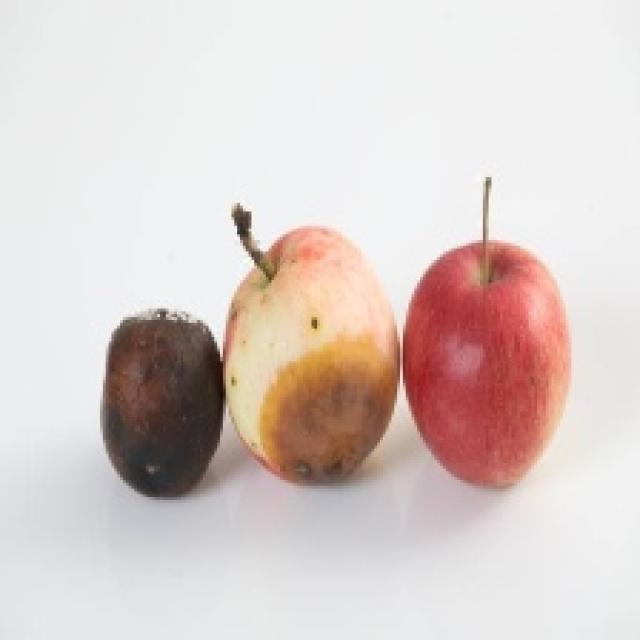rotten_apple: (230, 233, 400, 480), (104, 310, 221, 497)
